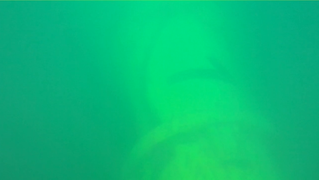1: (165, 56, 236, 87)
pipe: (111, 1, 283, 179)
